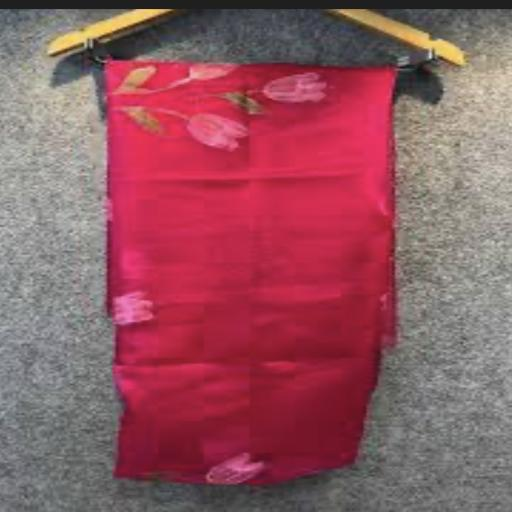Dupatta: (88, 50, 404, 487)
